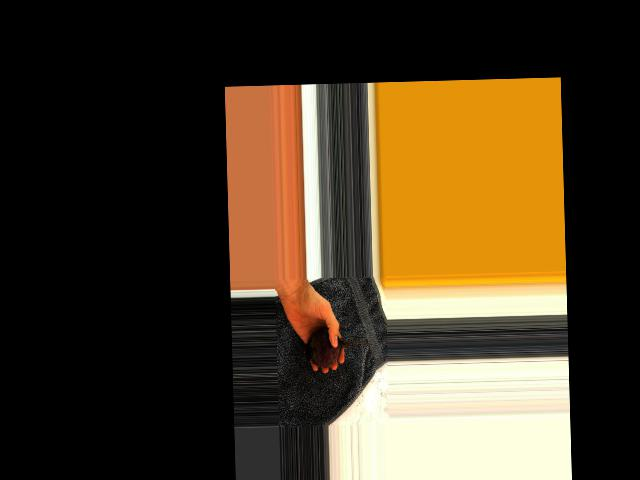beet: (304, 326, 372, 369)
